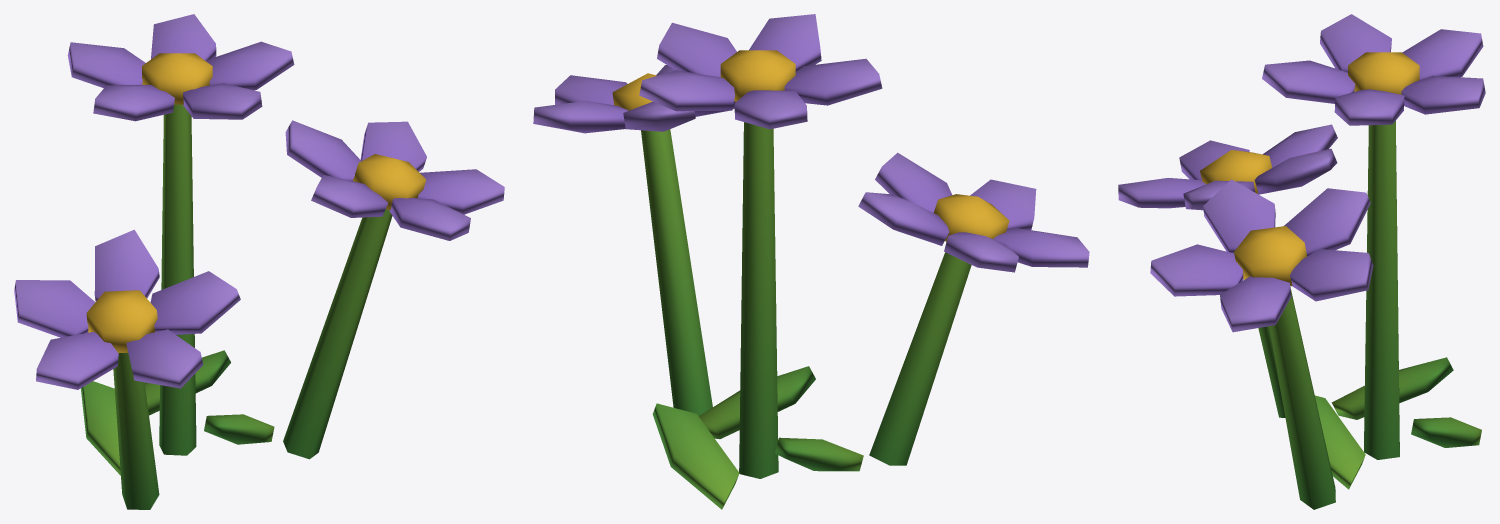
Rendered from plant-flower-purple.glb.
3 renders of one model, left to right at view 1: azimuth 30°, elevation 25°; view 2: azimuth 150°, elevation 25°; view 3: azimuth 270°, elevation 25°, orthographic. The views are drawn at different scales.
Visible parts, largest first — view 1: plant.flower.purple; view 2: plant.flower.purple; view 3: plant.flower.purple.
Part boxes in pixels (left/top/right/bottom): plant.flower.purple: left=14, top=14, right=504, bottom=509; plant.flower.purple: left=533, top=14, right=1089, bottom=509; plant.flower.purple: left=1118, top=14, right=1485, bottom=509.
Size of the model in its own units: 0.7854 by 0.628 by 0.5167.
